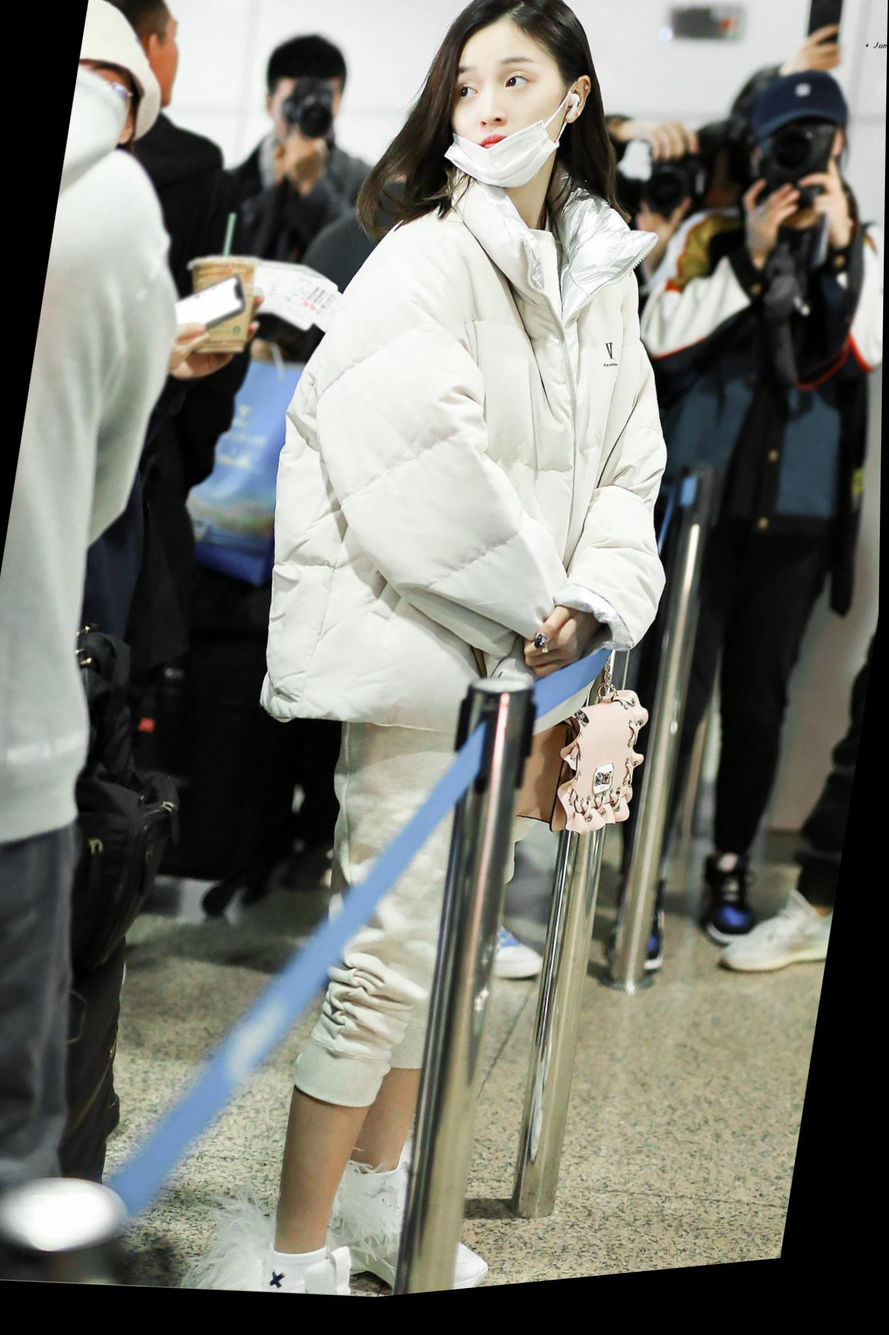WRONG: (433, 43, 576, 207)
